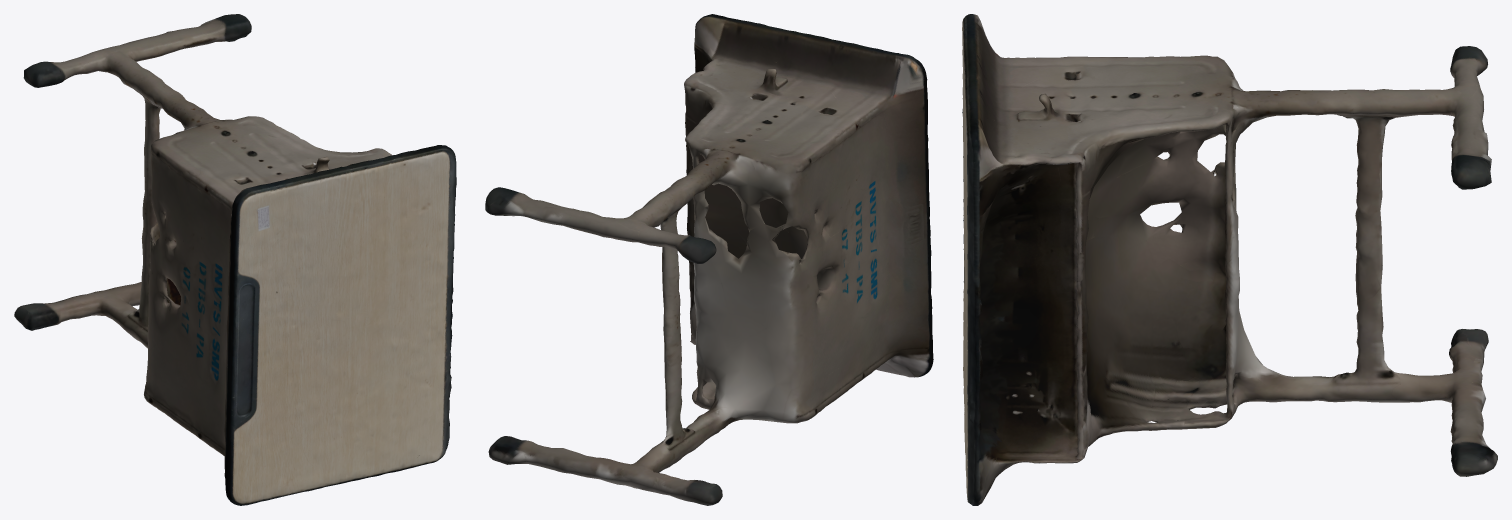
File: Student_table_2.obj
3 views of the same model, side by side, from view 1: azimuth 30°, elevation 25°; view 2: azimuth 150°, elevation 25°; view 3: azimuth 270°, elevation 25° (orthographic). The views are drawn at different scales.
Visible parts, largest first — view 1: obj1; view 2: obj1; view 3: obj1.
Part boxes in pixels (x1,y1,x2,y2): obj1: (14,14,456,505); obj1: (485,14,933,505); obj1: (962,14,1497,505).
Bounding box in the file's own units: 0.4597 × 0.6054 × 0.7693.
Materials: 1 (1 with a texture image).
